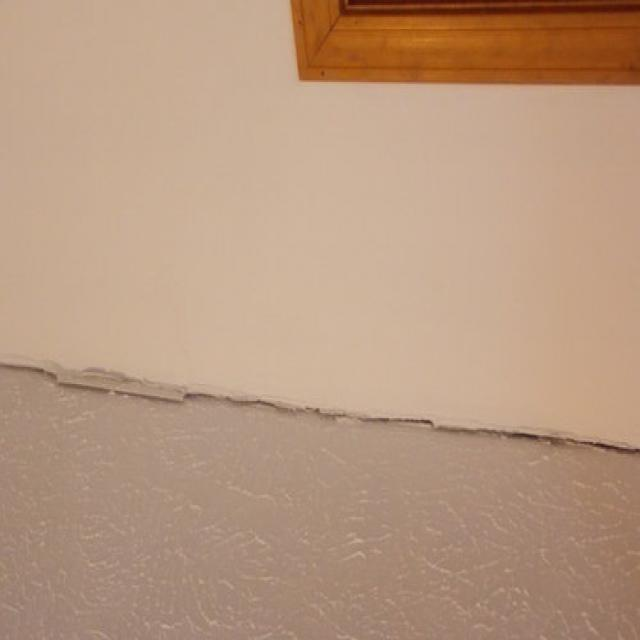Crack: (0, 346, 640, 464)
